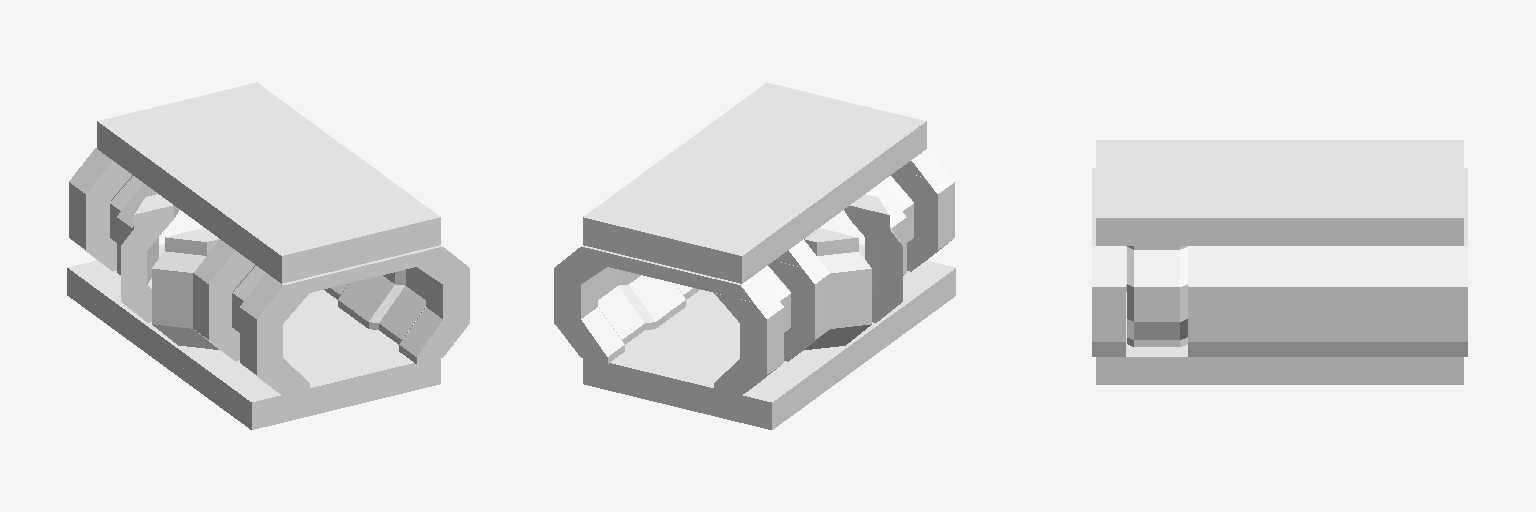
File: hallwaygreybox.obj
3 renders of one model, left to right at view 1: azimuth 30°, elevation 25°; view 2: azimuth 150°, elevation 25°; view 3: azimuth 270°, elevation 25°, orthographic.
Parts seen in each view (by area): view 1: hallwaygreybox; view 2: hallwaygreybox; view 3: hallwaygreybox.
Part boxes in pixels (x1,y1,x2,y2): hallwaygreybox: (67, 82, 469, 429); hallwaygreybox: (554, 83, 955, 429); hallwaygreybox: (1092, 140, 1467, 384).
Size of the model in its own units: 9 by 6 by 12.26.